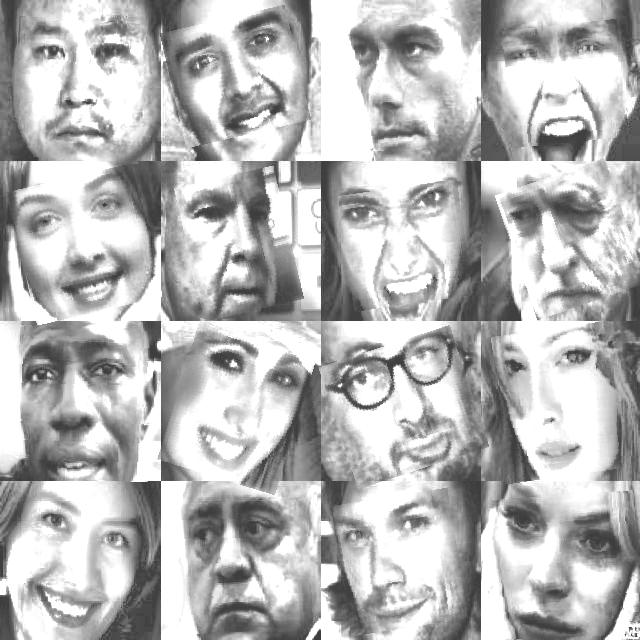angry: (342, 183, 470, 308), (343, 18, 463, 151), (505, 22, 627, 146)
happy: (167, 326, 308, 488), (13, 170, 156, 319), (5, 490, 147, 628), (166, 12, 306, 142), (336, 492, 464, 632)
neutral: (504, 165, 638, 313), (490, 326, 618, 480), (13, 18, 145, 162), (181, 170, 297, 317)
sad: (2, 326, 154, 481), (327, 334, 481, 480), (492, 492, 640, 640), (182, 498, 312, 632)
